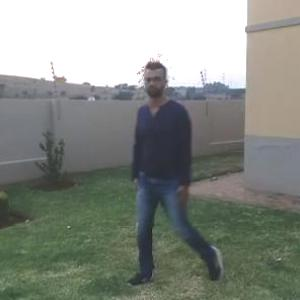follow: (128, 59, 213, 288)
